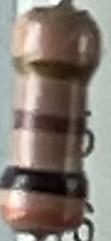Black: (3, 164, 88, 198)
Brown: (14, 107, 85, 134)
Orange: (2, 203, 84, 228)
Side-Gold: (12, 52, 100, 82)
